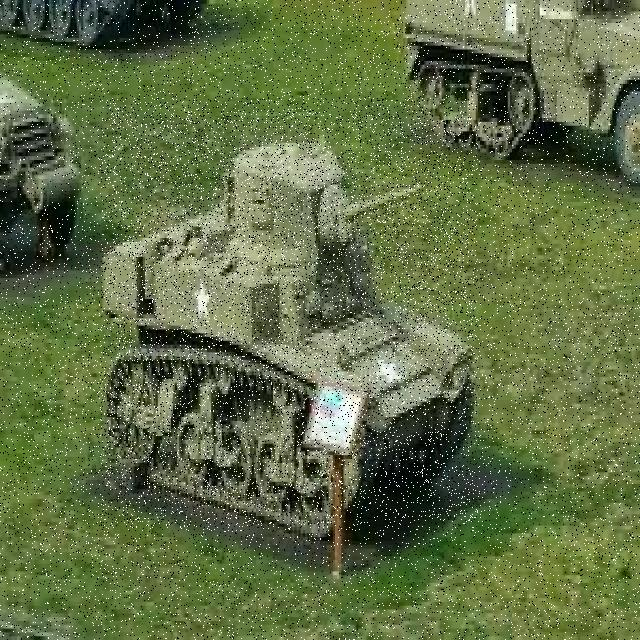MIL_MBT: (102, 99, 477, 528)
